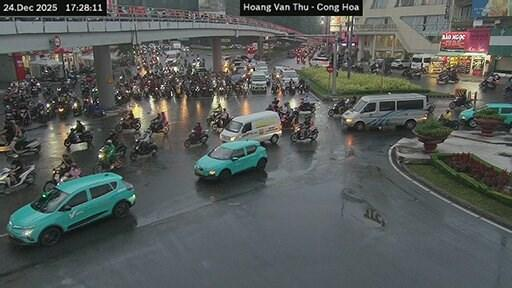motorbike: (0, 165, 34, 193), (128, 129, 156, 160), (92, 145, 121, 172), (42, 166, 69, 190), (6, 138, 38, 156), (64, 127, 92, 147), (184, 130, 208, 147), (291, 125, 316, 140), (327, 99, 348, 116), (115, 117, 140, 131), (479, 72, 499, 88), (83, 103, 105, 117), (281, 108, 297, 127), (448, 97, 472, 108), (150, 121, 169, 134), (211, 117, 230, 130), (205, 109, 220, 125), (437, 117, 457, 129), (70, 98, 80, 116), (441, 71, 458, 81), (19, 107, 28, 125), (42, 85, 54, 98), (402, 68, 421, 76), (298, 103, 313, 112), (57, 103, 66, 117), (284, 82, 293, 94), (504, 85, 511, 95), (435, 77, 441, 81)
